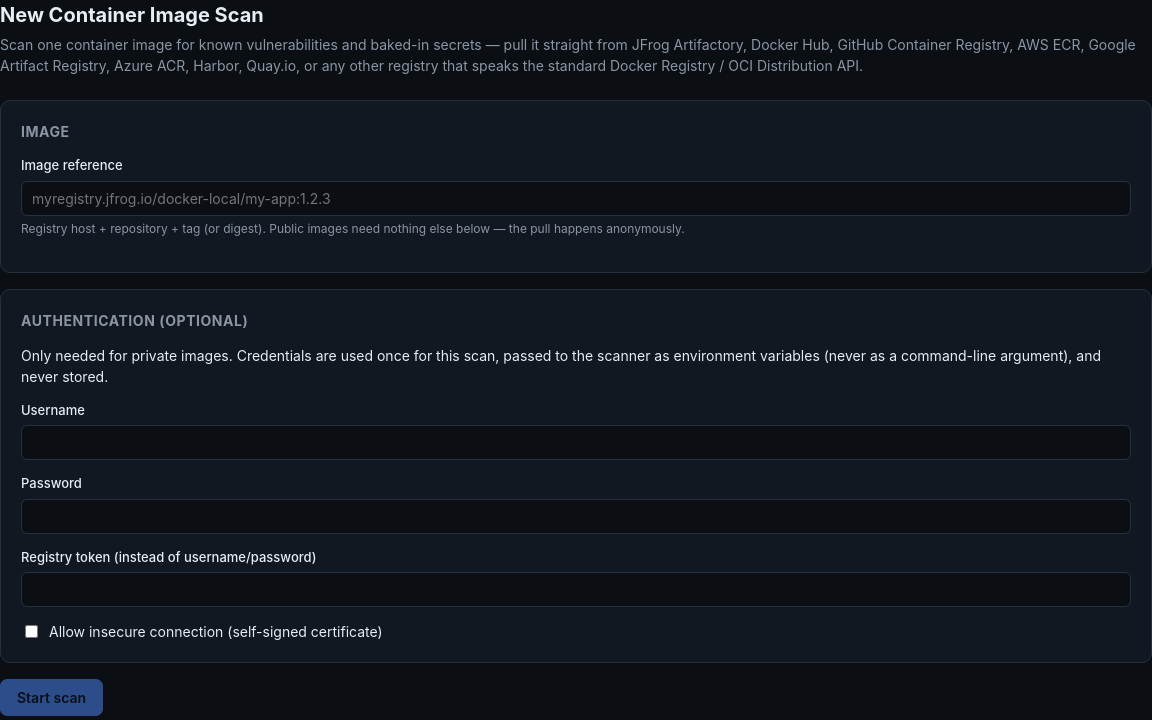
Test case: NewRegistryScan › stringifies a non-Error rejection in the error banner
Type "alpine:3.18" into the field labelled "Image reference" at (576, 198), box [21,180,1131,216]
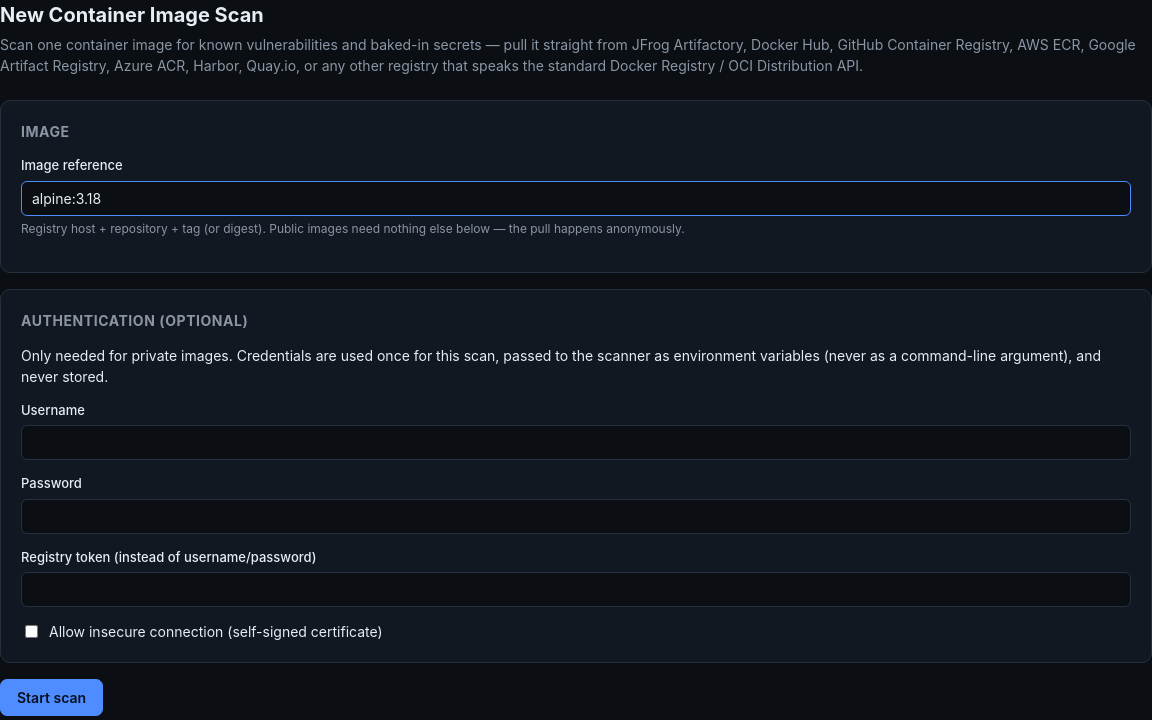
Click the button "Start scan" at (52, 698), box [0,679,103,716]
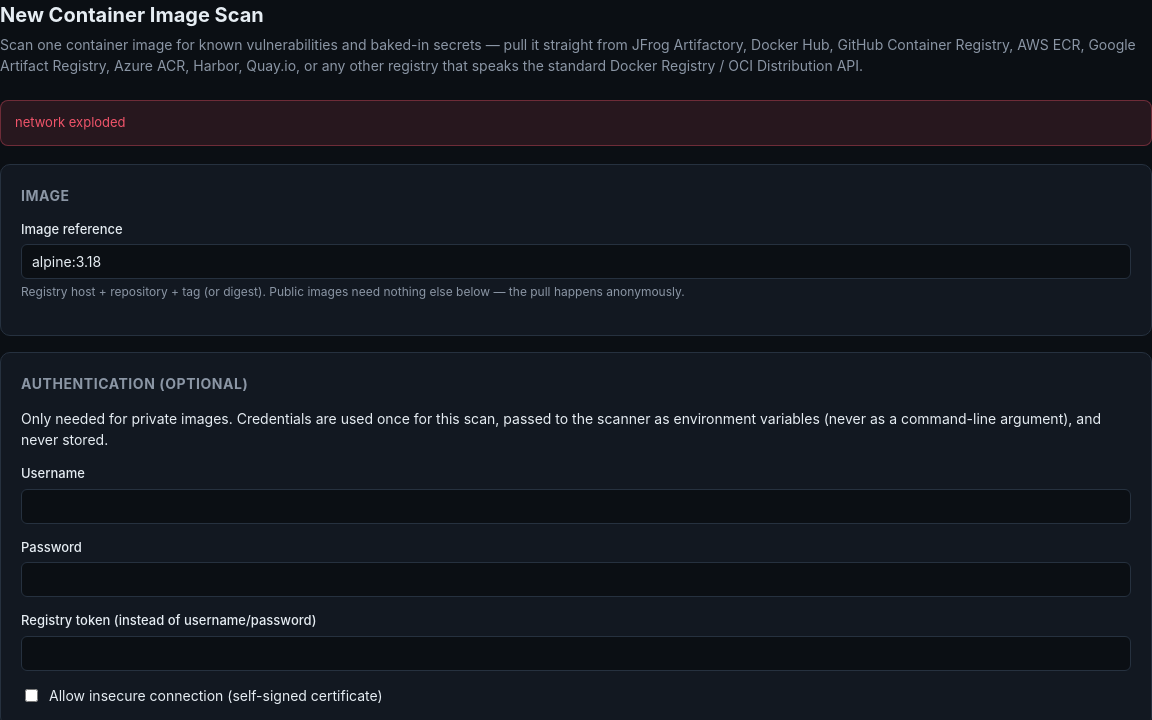
Now the text "network exploded" is shown, box [0,100,1151,146]
